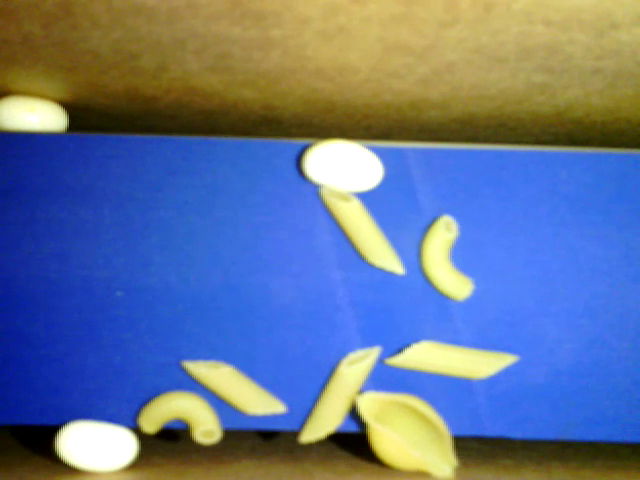elbow: (419, 213, 474, 302), (138, 389, 222, 445)
penne: (297, 346, 382, 443), (317, 187, 406, 275), (181, 357, 290, 417), (383, 338, 520, 381)
shell: (356, 389, 459, 478)
